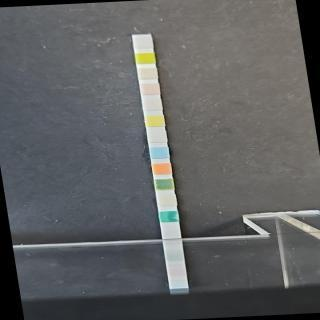mark: (132, 37, 154, 50), (138, 67, 158, 80), (145, 114, 165, 127), (142, 99, 163, 111), (149, 147, 170, 159), (152, 163, 172, 175), (154, 178, 174, 190), (160, 212, 180, 224), (140, 84, 161, 95), (158, 195, 177, 207), (135, 53, 155, 64), (147, 132, 167, 143)
